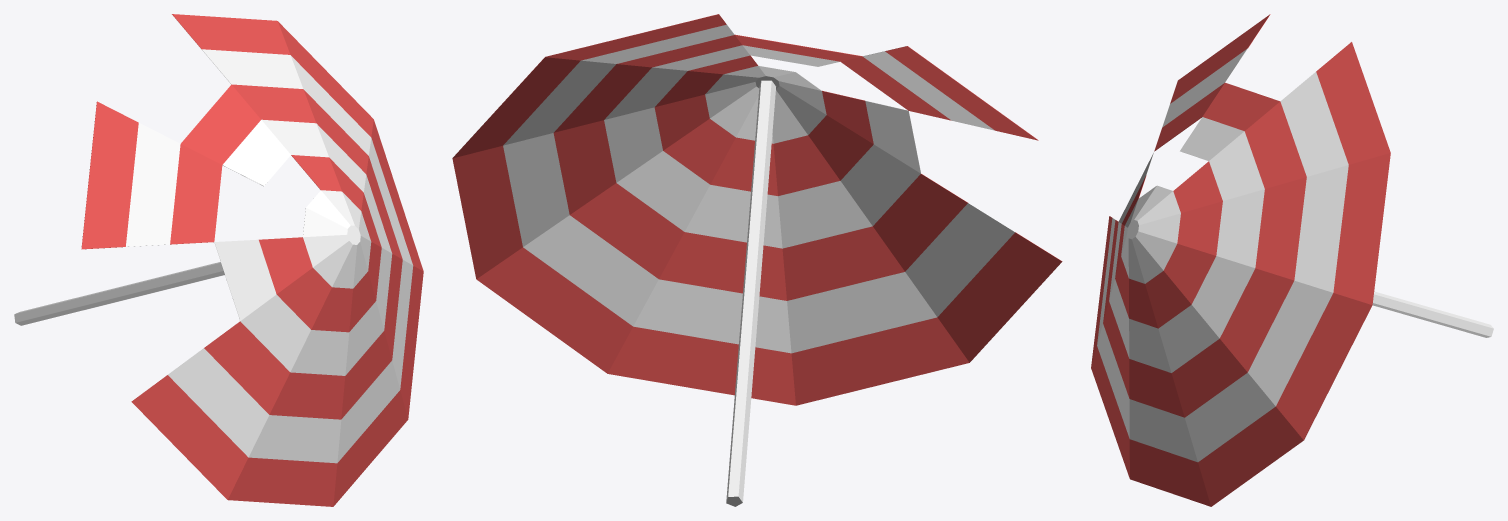
The model's file is 07 Broken_umbrella.FBX.
3 renders of one model, left to right at view 1: azimuth 30°, elevation 25°; view 2: azimuth 150°, elevation 25°; view 3: azimuth 270°, elevation 25°, orthographic. The views are drawn at different scales.
Visible parts, largest first — view 1: Broken_umbrella; view 2: Broken_umbrella; view 3: Broken_umbrella.
Boxes of the visible parts, box(x1,y1,x2,y2) form: Broken_umbrella: box(14, 14, 423, 506); Broken_umbrella: box(452, 14, 1062, 506); Broken_umbrella: box(1091, 14, 1493, 506).
Size of the model in its own units: 1623 by 1611 by 1420.
